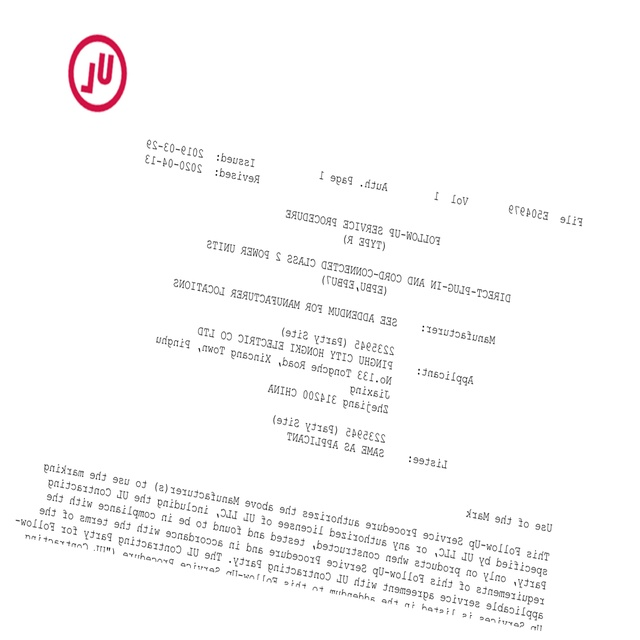ul: (67, 33, 130, 116)
